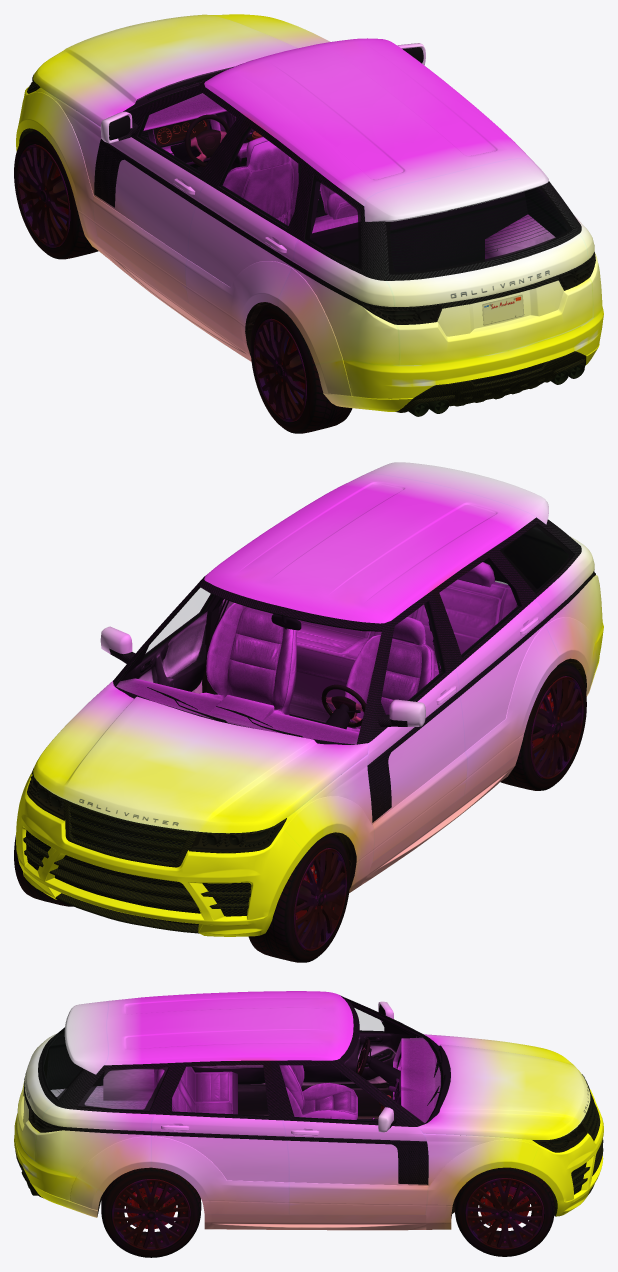
File: baller3.glb
The picture shows the model from 3 angles, top to bottom: view 1: azimuth 30°, elevation 25°; view 2: azimuth 150°, elevation 25°; view 3: azimuth 270°, elevation 25°; orthographic projection. The views are drawn at different scales.
Parts seen in each view (by area): view 1: bodyshell, boot, chassis, bonnet, door_dside_f, door_dside_r, bumper_r, windscreen_r, wheel_lr, wheel_lf, wing_lf, window_lr (+3 smaller); view 2: bodyshell, bonnet, chassis, bumper_f, door_dside_f, door_dside_r, wheel_lf, wheel_lr, boot, wing_lf, door_pside_f, window_lr (+4 smaller); view 3: bodyshell, door_pside_f, chassis, door_pside_r, bonnet, wheel_rr, wheel_rf, wing_rf, boot, window_rr, window_rf, bumper_f (+6 smaller).
Part boxes in pixels (x1,y1,x2,y2): bodyshell: [27, 38, 602, 365]; boot: [364, 158, 593, 365]; chassis: [126, 74, 584, 416]; bonnet: [33, 14, 330, 126]; door_dside_f: [93, 88, 245, 302]; door_dside_r: [185, 118, 309, 343]; bumper_r: [315, 308, 603, 412]; windscreen_r: [386, 186, 572, 274]; wheel_lr: [250, 304, 352, 433]; wheel_lf: [14, 130, 98, 259]; wing_lf: [27, 87, 107, 257]; window_lr: [220, 127, 300, 226]; bodyshell: [27, 473, 602, 884]; bonnet: [33, 681, 368, 833]; chassis: [114, 523, 585, 840]; bumper_f: [16, 773, 304, 936]; door_dside_f: [367, 592, 467, 861]; door_dside_r: [432, 549, 559, 795]; wheel_lf: [248, 833, 350, 962]; wheel_lr: [500, 661, 586, 790]; boot: [367, 462, 583, 591]; wing_lf: [282, 754, 374, 893]; door_pside_f: [100, 576, 216, 693]; window_lr: [440, 559, 519, 656]; bodyshell: [35, 991, 600, 1230]; door_pside_f: [270, 1061, 428, 1215]; chassis: [27, 997, 460, 1213]; door_pside_r: [151, 1061, 289, 1214]; bonnet: [417, 1034, 590, 1139]; wheel_rr: [101, 1167, 201, 1257]; wheel_rf: [454, 1167, 554, 1256]; wing_rf: [423, 1133, 538, 1229]; boot: [17, 1001, 108, 1160]; window_rr: [172, 1066, 267, 1115]; window_rf: [280, 1066, 383, 1121]; bumper_f: [528, 1089, 603, 1216].
Size of the model in its own units: 2.42 by 1.84 by 5.14.
22 materials, 22 textured.
